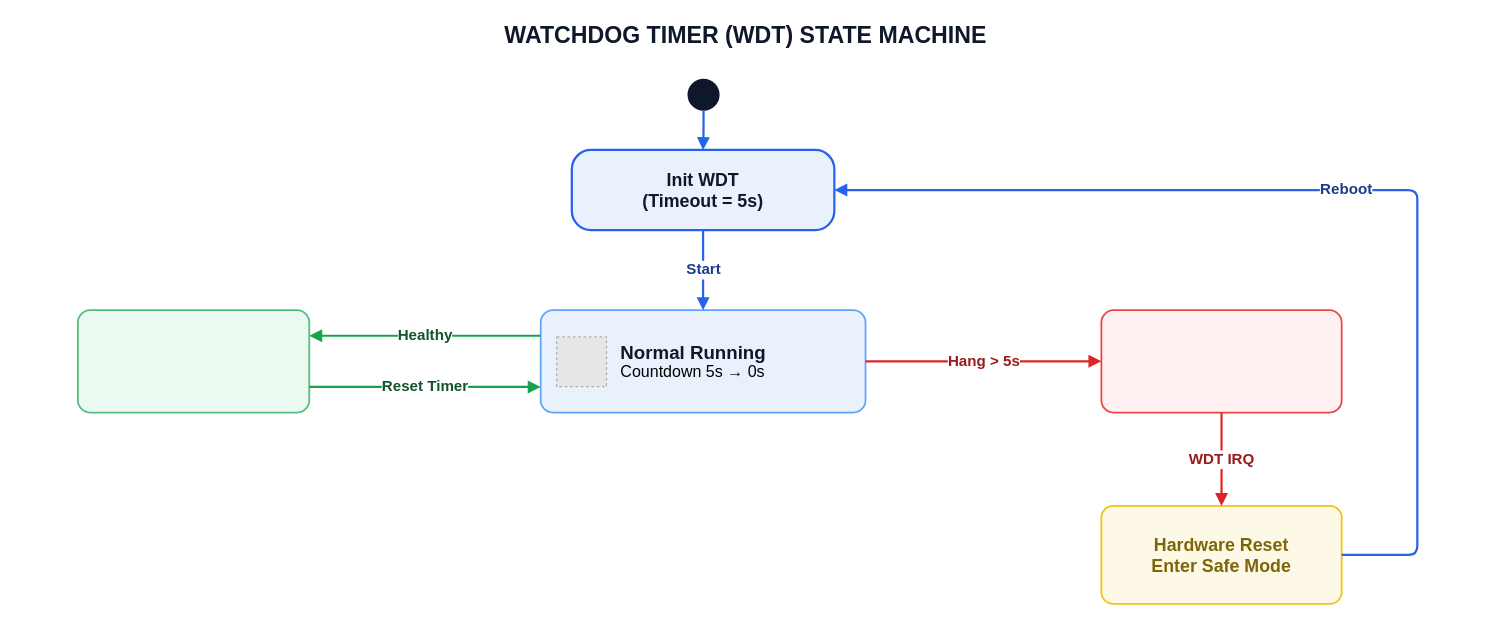
Image size: 1490x619. Some labels were removed from this diagram. Grey dashed boxes stand in for pictures. Each missing label, with the centre of its shape:
Feed WDT (Reload 5s): the point at 193,361
Timeout (0s) Task Hung: the point at 1221,361
